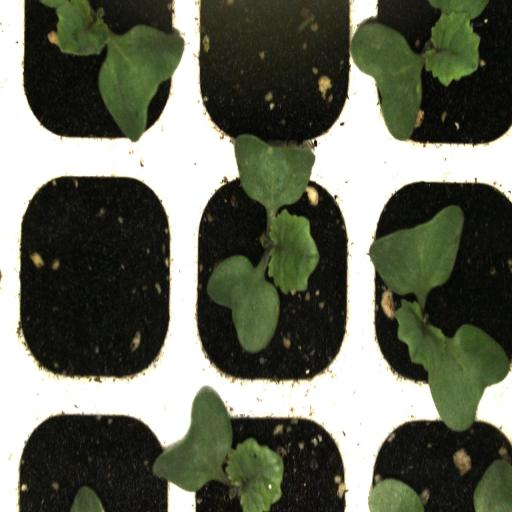noseedling: (4, 168, 182, 389), (178, 3, 366, 156)
seedling: (186, 160, 358, 396), (359, 160, 512, 402), (11, 2, 189, 172), (365, 2, 512, 160), (180, 400, 360, 512)
